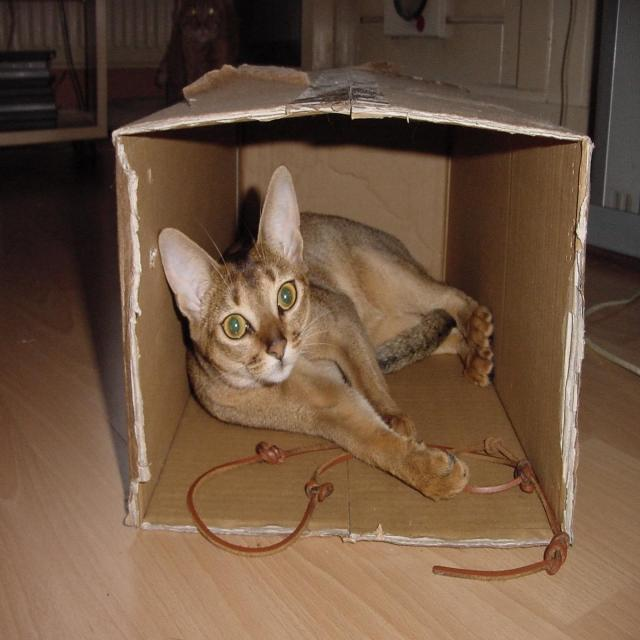Abyssinian: (154, 160, 313, 394)
